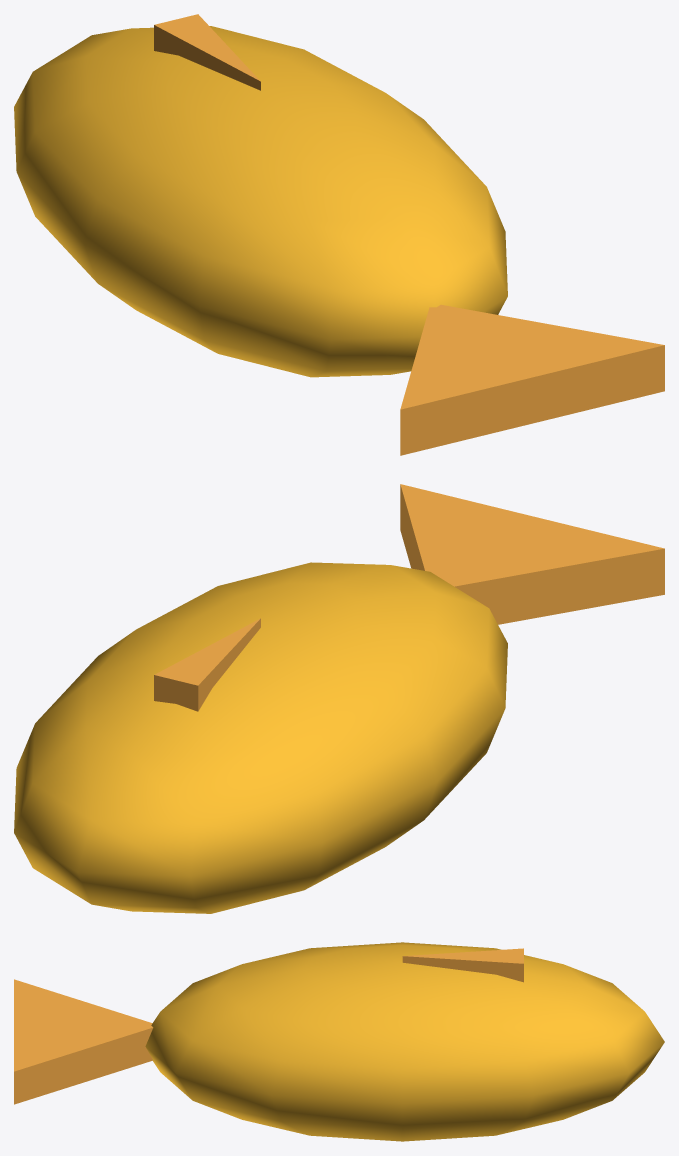
Rendered from food_golden_fish.glb.
The picture shows the model from 3 angles, top to bottom: view 1: azimuth 30°, elevation 25°; view 2: azimuth 150°, elevation 25°; view 3: azimuth 270°, elevation 25°; orthographic projection. The views are drawn at different scales.
Visible parts, largest first — view 1: food_golden_fish, food_golden_fish_tail, food_golden_fish_fin; view 2: food_golden_fish, food_golden_fish_tail, food_golden_fish_fin; view 3: food_golden_fish, food_golden_fish_tail, food_golden_fish_fin.
Boxes of the visible parts, <box> form: food_golden_fish: <box>14,26,507,377</box>; food_golden_fish_tail: <box>400,304,664,455</box>; food_golden_fish_fin: <box>154,14,260,90</box>; food_golden_fish: <box>14,562,507,913</box>; food_golden_fish_tail: <box>400,484,664,624</box>; food_golden_fish_fin: <box>154,618,260,711</box>; food_golden_fish: <box>145,942,664,1141</box>; food_golden_fish_tail: <box>14,979,153,1104</box>; food_golden_fish_fin: <box>402,948,523,982</box>.
Size of the model in its own units: 0.12 by 0.075 by 0.268.
